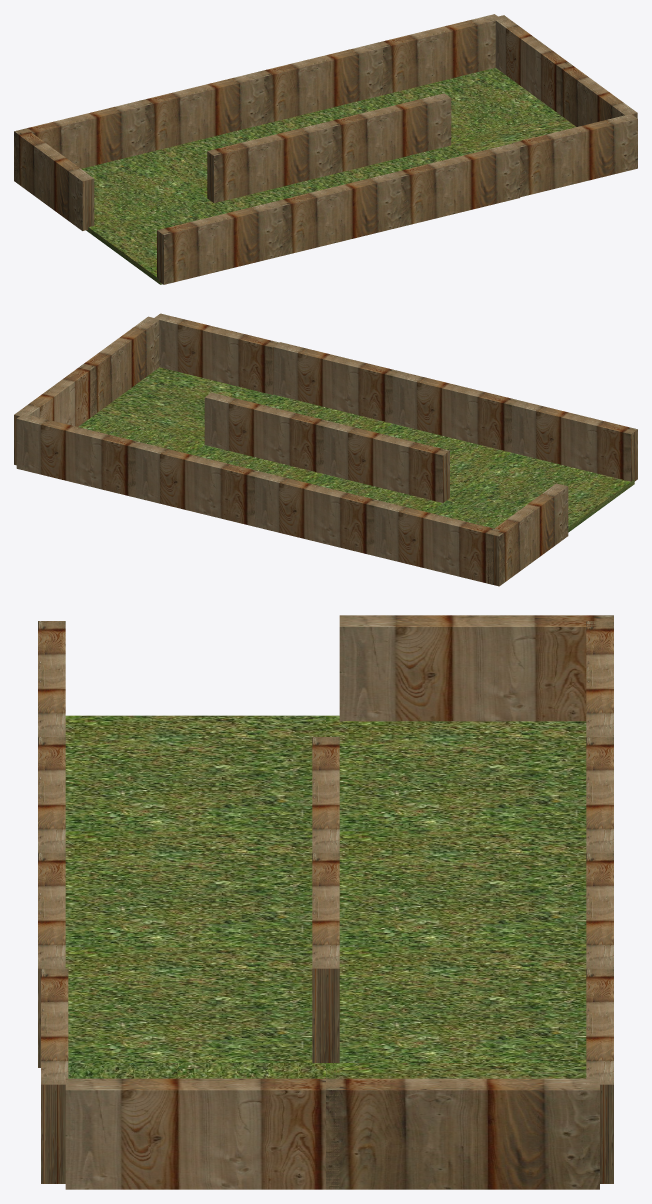
File: Map.obj
3 views of the same model, one above another, from view 1: azimuth 30°, elevation 25°; view 2: azimuth 150°, elevation 25°; view 3: azimuth 270°, elevation 25° (orthographic). The views are drawn at different scales.
Visible parts, largest first — view 1: group6_pasted__group1_pasted__pasted__pCube1; view 2: group6_pasted__group1_pasted__pasted__pCube1; view 3: group6_pasted__group1_pasted__pasted__pCube1.
Boxes of the visible parts, bbox=[...] form: group6_pasted__group1_pasted__pasted__pCube1: bbox=[14, 14, 637, 284]; group6_pasted__group1_pasted__pasted__pCube1: bbox=[14, 313, 637, 586]; group6_pasted__group1_pasted__pasted__pCube1: bbox=[38, 615, 613, 1189].
Size of the model in its own units: 20.5 by 2.1 by 10.5.
21 materials, 21 textured.
